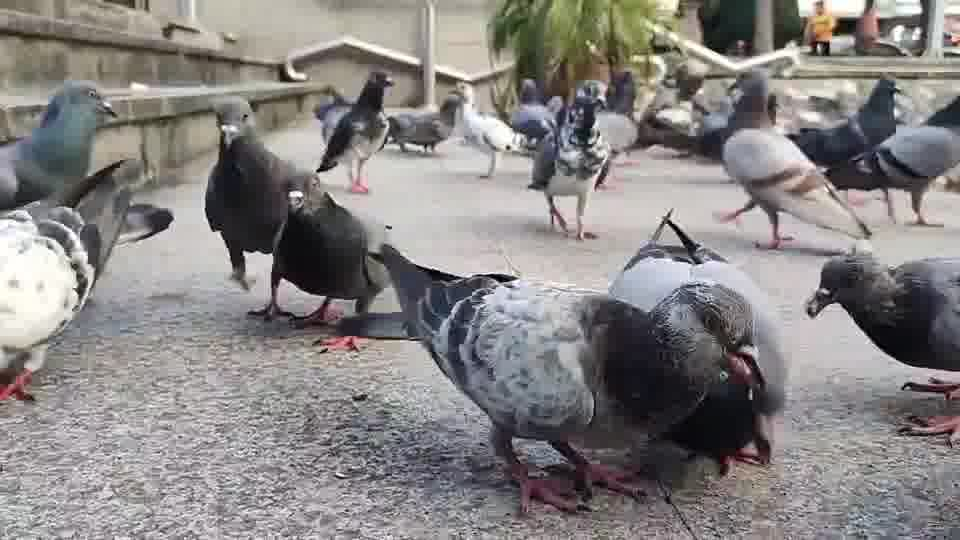Pigeon: (315, 240, 772, 514), (606, 206, 785, 475), (0, 156, 174, 402), (803, 242, 959, 448), (715, 66, 872, 249), (203, 96, 321, 322), (264, 172, 389, 330), (790, 72, 906, 222), (0, 79, 118, 209), (849, 94, 959, 225), (525, 90, 613, 240), (313, 71, 395, 193), (442, 80, 528, 178), (378, 91, 462, 154)
